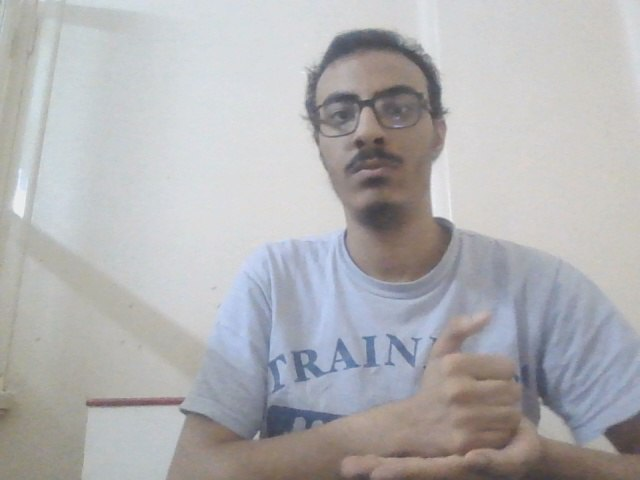Help: (337, 310, 546, 480)
